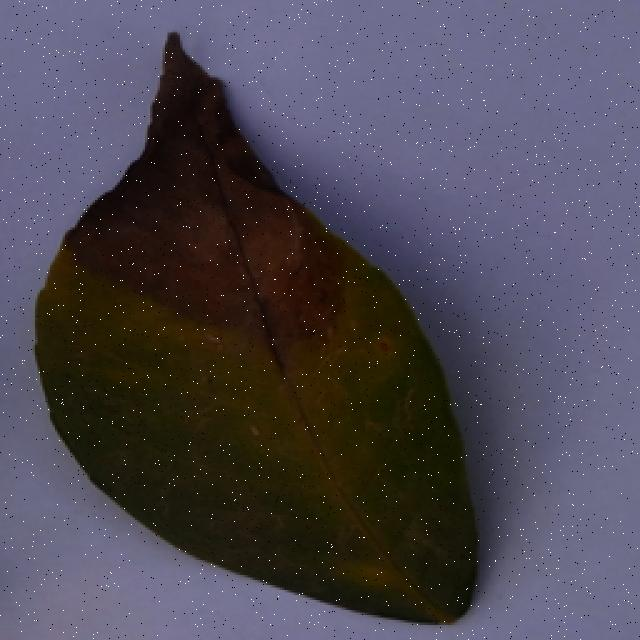canker: (29, 28, 482, 633)
